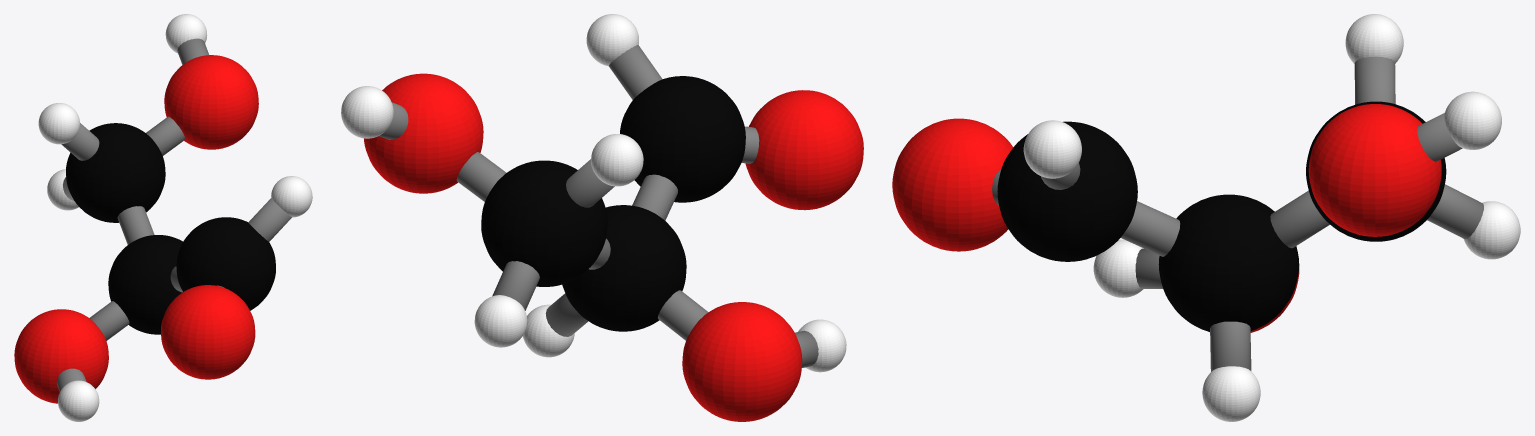
Rendered from GLICERALDEHIDO.obj.
3 views of the same model, side by side, from view 1: azimuth 30°, elevation 25°; view 2: azimuth 150°, elevation 25°; view 3: azimuth 270°, elevation 25° (orthographic). The views are drawn at different scales.
Parts seen in each view (by area): view 1: Oxygen_ball_Sphere, Carbon_ball_Sphere.002, Hydrogen_ball_Sphere.001, Stick_Cylinder.003_Cylinder.003, Stick_Cylinder.008_Cylinder.008, Stick_Cylinder.009_Cylinder.009, Stick_Cylinder.006_Cylinder.006, Stick_Cylinder.010_Cylinder.010, Stick_Cylinder.004_Cylinder.004, Stick_Cylinder.005_Cylinder.005; view 2: Carbon_ball_Sphere.002, Oxygen_ball_Sphere, Hydrogen_ball_Sphere.001, Stick_Cylinder.003_Cylinder.003, Stick_Cylinder.001_Cylinder.001, Stick_Cylinder.009_Cylinder.009, Stick_Cylinder.006_Cylinder.006, Stick_Cylinder.002_Cylinder.002, Stick_Cylinder.010_Cylinder.010, Stick_Cylinder.007_Cylinder.007, Stick_Cylinder.005_Cylinder.005, Stick_Cylinder.004_Cylinder.004 (+1 smaller); view 3: Carbon_ball_Sphere.002, Oxygen_ball_Sphere, Hydrogen_ball_Sphere.001, Stick_Cylinder.002_Cylinder.002, Stick_Cylinder.008_Cylinder.008, Stick_Cylinder.007_Cylinder.007, Stick_Cylinder.010_Cylinder.010, Stick_Cylinder.001_Cylinder.001, Stick_Cylinder.004_Cylinder.004, Stick_Cylinder.005_Cylinder.005.
Boxes of the visible parts, x1,y1,x2,y2 form: Oxygen_ball_Sphere: (14, 55, 258, 403); Carbon_ball_Sphere.002: (66, 123, 275, 334); Hydrogen_ball_Sphere.001: (38, 14, 312, 421); Stick_Cylinder.003_Cylinder.003: (248, 198, 291, 241); Stick_Cylinder.008_Cylinder.008: (117, 206, 154, 244); Stick_Cylinder.009_Cylinder.009: (89, 301, 129, 340); Stick_Cylinder.006_Cylinder.006: (146, 116, 184, 155); Stick_Cylinder.010_Cylinder.010: (61, 123, 99, 160); Stick_Cylinder.004_Cylinder.004: (177, 38, 208, 64); Stick_Cylinder.005_Cylinder.005: (56, 368, 86, 391); Carbon_ball_Sphere.002: (481, 76, 745, 331); Oxygen_ball_Sphere: (364, 73, 863, 421); Hydrogen_ball_Sphere.001: (341, 14, 846, 372); Stick_Cylinder.003_Cylinder.003: (609, 45, 662, 99); Stick_Cylinder.001_Cylinder.001: (492, 261, 539, 310); Stick_Cylinder.009_Cylinder.009: (657, 290, 708, 340); Stick_Cylinder.006_Cylinder.006: (456, 152, 506, 201); Stick_Cylinder.002_Cylinder.002: (632, 174, 677, 220); Stick_Cylinder.010_Cylinder.010: (566, 159, 614, 207); Stick_Cylinder.007_Cylinder.007: (545, 293, 588, 336); Stick_Cylinder.005_Cylinder.005: (795, 330, 818, 367); Stick_Cylinder.004_Cylinder.004: (379, 102, 408, 139); Carbon_ball_Sphere.002: (997, 101, 1446, 331); Oxygen_ball_Sphere: (892, 104, 1441, 332); Hydrogen_ball_Sphere.001: (1023, 14, 1520, 421); Stick_Cylinder.002_Cylinder.002: (1120, 201, 1180, 256); Stick_Cylinder.008_Cylinder.008: (1270, 190, 1329, 248); Stick_Cylinder.007_Cylinder.007: (1210, 321, 1251, 371); Stick_Cylinder.010_Cylinder.010: (1354, 56, 1395, 104); Stick_Cylinder.001_Cylinder.001: (1427, 184, 1483, 239); Stick_Cylinder.004_Cylinder.004: (1417, 112, 1462, 161); Stick_Cylinder.005_Cylinder.005: (1135, 248, 1162, 288).
Size of the model in its own units: 4.53 by 4.13 by 6.2.
